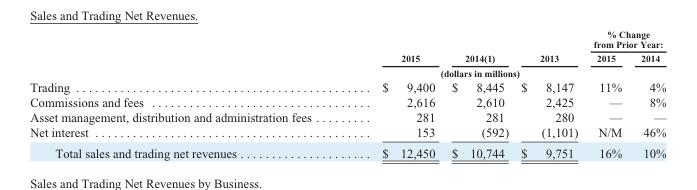table: (29, 28, 665, 159)
table column: (29, 28, 346, 159), (346, 28, 442, 159), (442, 28, 514, 159), (514, 28, 585, 159), (585, 28, 630, 159), (630, 28, 665, 159)
table column header: (29, 28, 665, 78)
table row: (29, 28, 665, 50), (29, 124, 665, 142), (29, 142, 665, 159), (29, 78, 665, 94), (29, 50, 665, 65), (29, 94, 665, 109), (29, 109, 665, 124), (29, 65, 665, 78)
table spanning cell: (346, 28, 442, 65), (346, 65, 585, 78), (442, 28, 514, 65), (514, 28, 585, 65), (585, 28, 665, 50), (585, 50, 630, 78), (630, 50, 665, 78)
